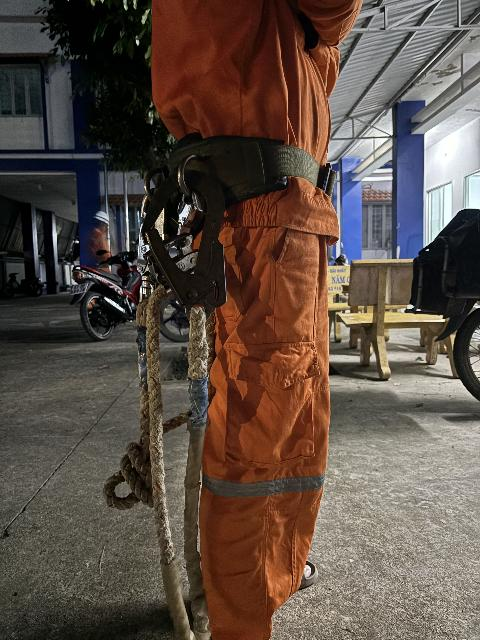harness: (141, 105, 377, 223)
